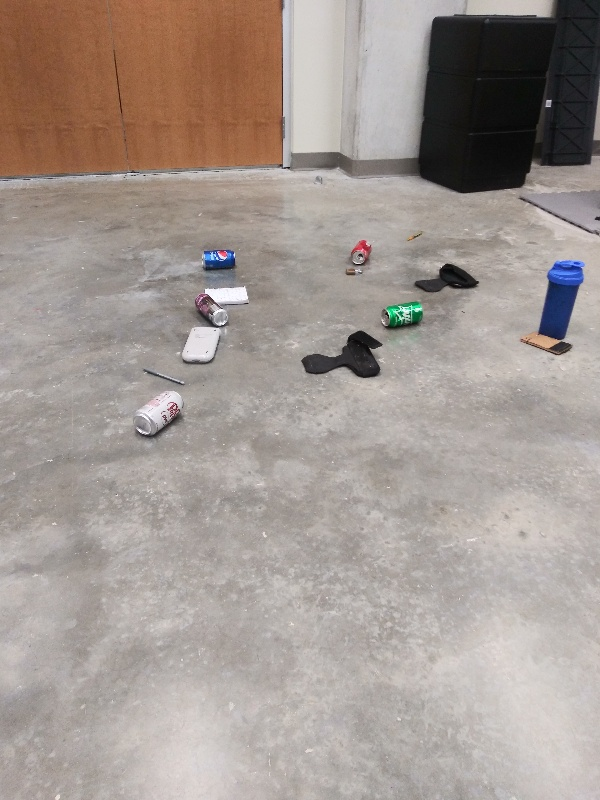can: (129, 389, 187, 440), (377, 299, 429, 335), (190, 292, 236, 328), (197, 245, 240, 275), (345, 237, 375, 265)
